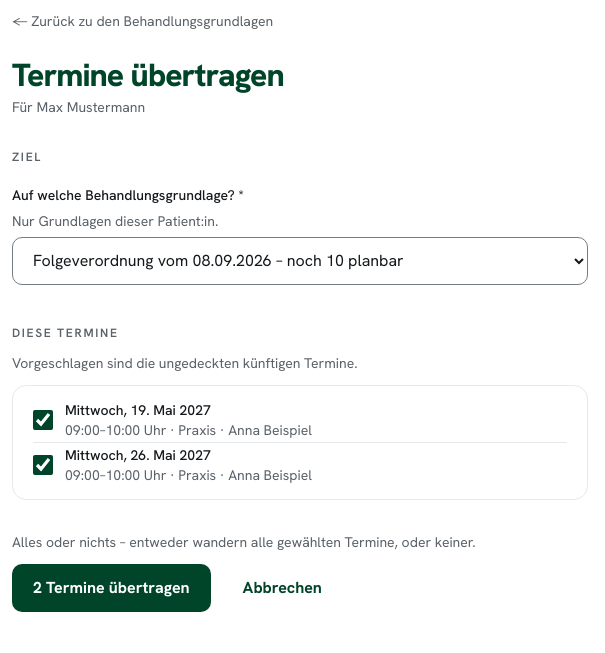
Test case: Termine übertragen › sagt beim gesperrten Knopf auch, wenn kein Termin mehr gewaehlt ist
Check: the text "Mittwoch, 19. Mai 2027" is shown, box [65,401,211,419]
Click the 1st checkbox at (43, 420), box [33,410,53,430]
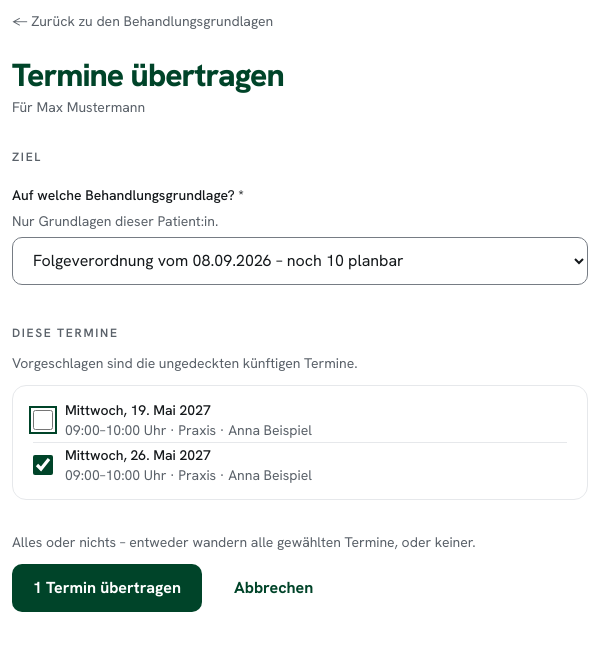
Click the 2nd checkbox at (43, 465), box [33,455,53,475]
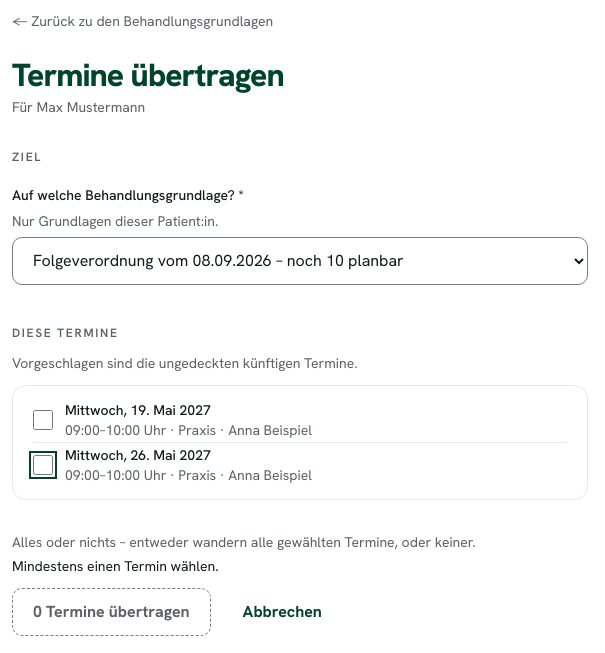
Check: the button "0 Termine übertragen" is disabled, box [12,588,211,636]
